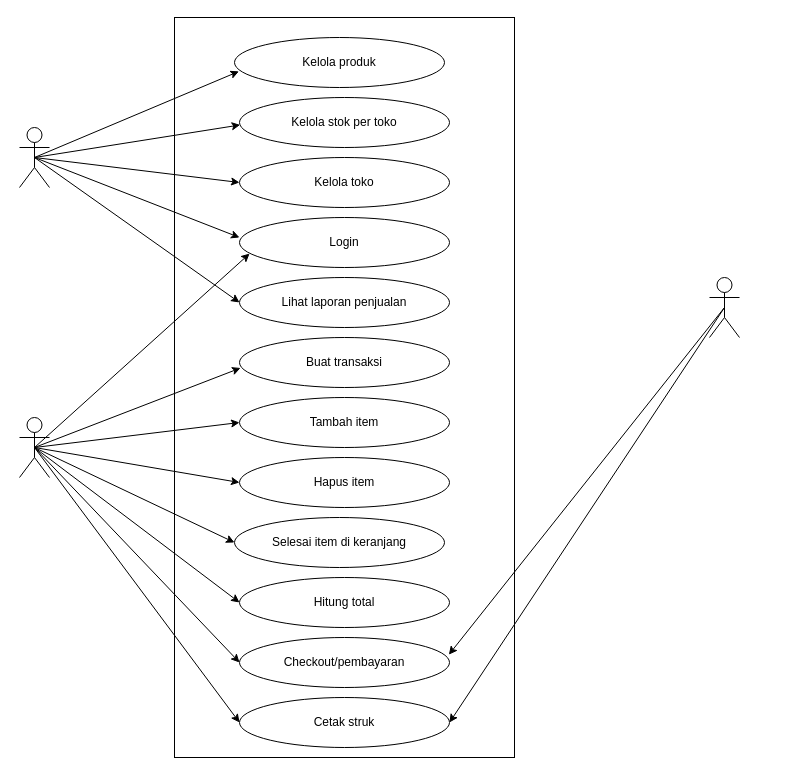
Some shapes in this 790 by 775 pixel diagram are drawn without their labels. The centre of each missing label's shape, as x and y in pixels:
"Admin" belongs at pixel 34 157.
"Kasir" belongs at pixel 34 447.
"Payment Gateway" belongs at pixel 724 307.
